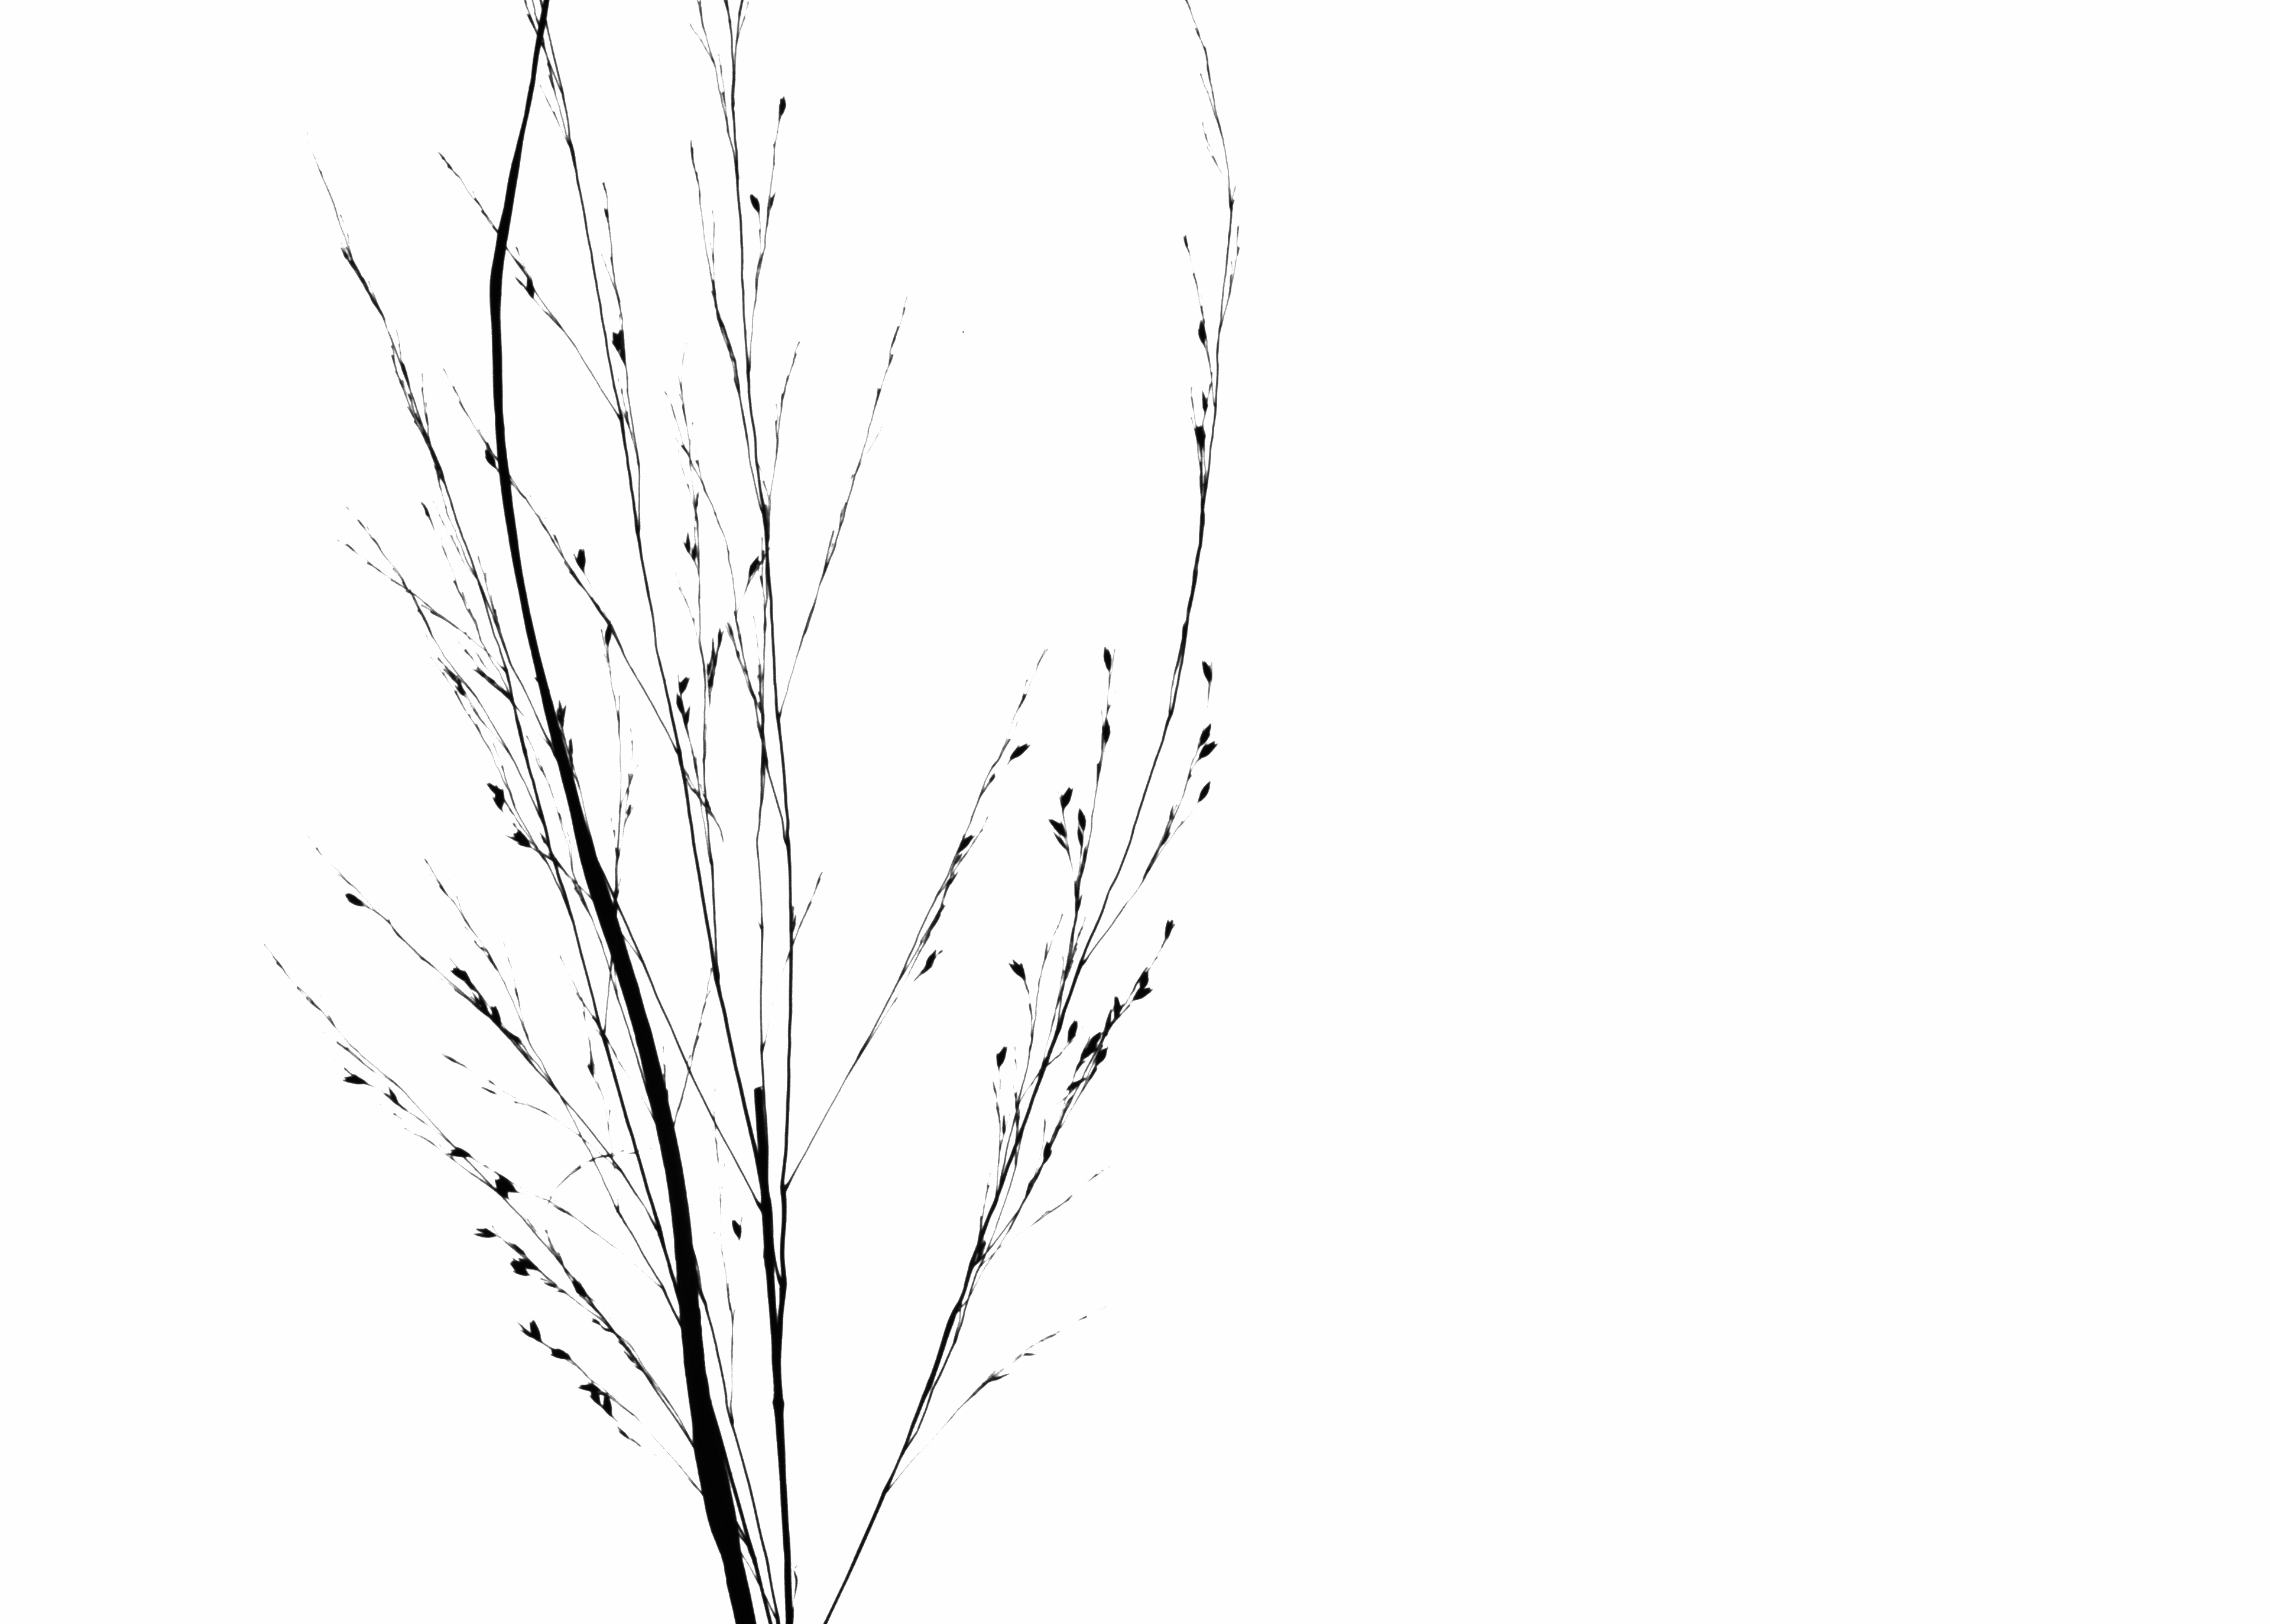seed: (1078, 1028, 1104, 1063), (506, 826, 535, 852), (920, 946, 941, 977), (570, 1272, 591, 1304), (1092, 1046, 1111, 1079), (610, 327, 626, 367), (445, 1142, 477, 1162), (1196, 740, 1220, 765), (450, 963, 475, 988), (1006, 956, 1029, 982), (508, 1257, 531, 1281), (1196, 777, 1213, 808), (955, 830, 976, 856), (341, 889, 367, 910), (480, 445, 499, 473), (730, 1214, 747, 1244), (1011, 742, 1034, 765), (492, 1178, 512, 1204), (471, 1223, 498, 1243), (1099, 642, 1115, 673), (1196, 721, 1213, 749), (343, 1072, 371, 1090), (550, 1346, 575, 1366), (1099, 714, 1113, 747), (1059, 784, 1076, 810), (1194, 422, 1208, 453), (1199, 657, 1215, 685), (1064, 1018, 1080, 1046), (573, 543, 589, 571), (603, 1388, 617, 1420), (527, 1315, 543, 1343), (485, 782, 508, 801), (554, 698, 568, 728), (1196, 316, 1210, 346), (1197, 388, 1213, 415), (1138, 965, 1153, 991), (1048, 816, 1067, 837), (767, 188, 781, 216), (746, 554, 760, 582), (747, 192, 763, 216), (1162, 916, 1178, 940), (777, 91, 789, 121), (524, 272, 536, 302), (603, 620, 615, 650), (1132, 988, 1155, 1004), (385, 1083, 401, 1106), (1111, 995, 1124, 1023), (995, 1046, 1009, 1070), (577, 1380, 605, 1392), (494, 780, 505, 812), (672, 691, 686, 714), (489, 1004, 503, 1026), (454, 682, 469, 701), (679, 675, 693, 694), (566, 735, 575, 765), (1074, 826, 1087, 847), (716, 624, 724, 652), (1078, 803, 1087, 831), (1043, 1139, 1053, 1162), (684, 705, 693, 729), (693, 538, 700, 562), (684, 531, 691, 554)
